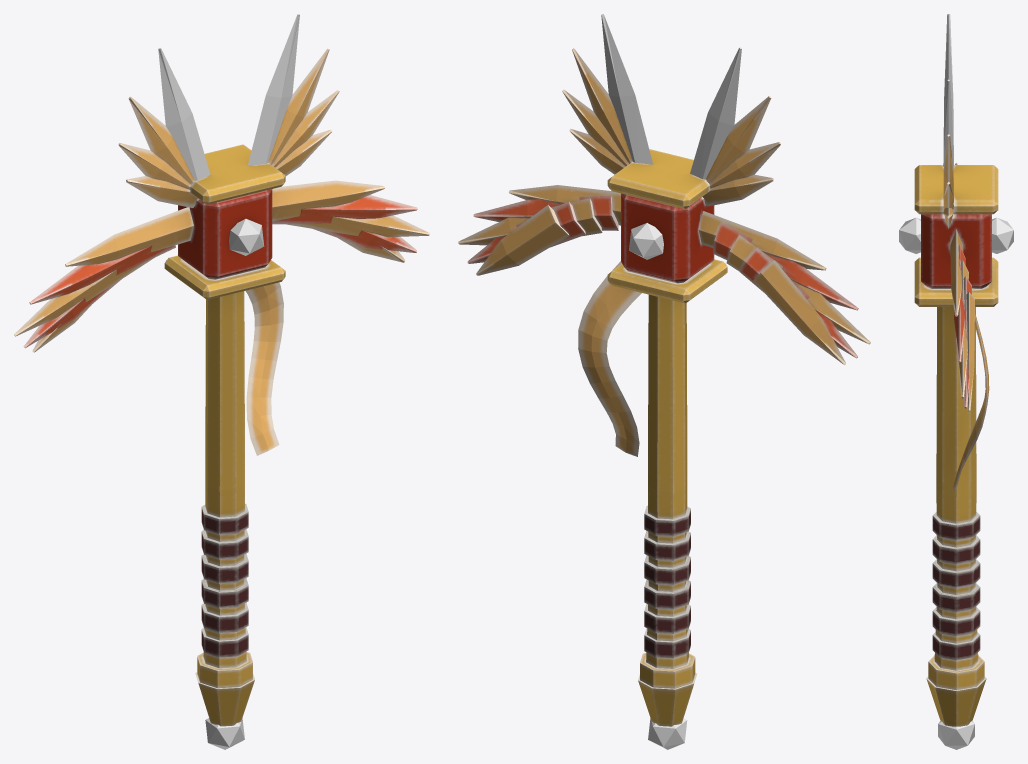
Rendered from PhoenixPickaxe.glb.
3 renders of one model, left to right at view 1: azimuth 30°, elevation 25°; view 2: azimuth 150°, elevation 25°; view 3: azimuth 270°, elevation 25°, orthographic. The views are drawn at different scales.
Visible parts, largest first — view 1: Body__Tex, Head__Accent, Head__Gem; view 2: Body__Tex, Head__Accent, Head__Gem; view 3: Body__Tex, Head__Gem, Head__Accent.
Boxes of the visible parts, box(x1,y1,x2,y2) form: Body__Tex: box(14, 48, 429, 726); Head__Accent: box(158, 14, 299, 180); Head__Gem: box(205, 218, 264, 749); Body__Tex: box(458, 48, 870, 726); Head__Accent: box(601, 14, 741, 179); Head__Gem: box(629, 223, 687, 749); Body__Tex: box(914, 134, 998, 726); Head__Gem: box(899, 217, 1013, 749); Head__Accent: box(943, 14, 953, 198).
Bounding box in the file's own units: 3.01 × 5.01 × 0.7412.
Materials: 1 (1 with a texture image).
